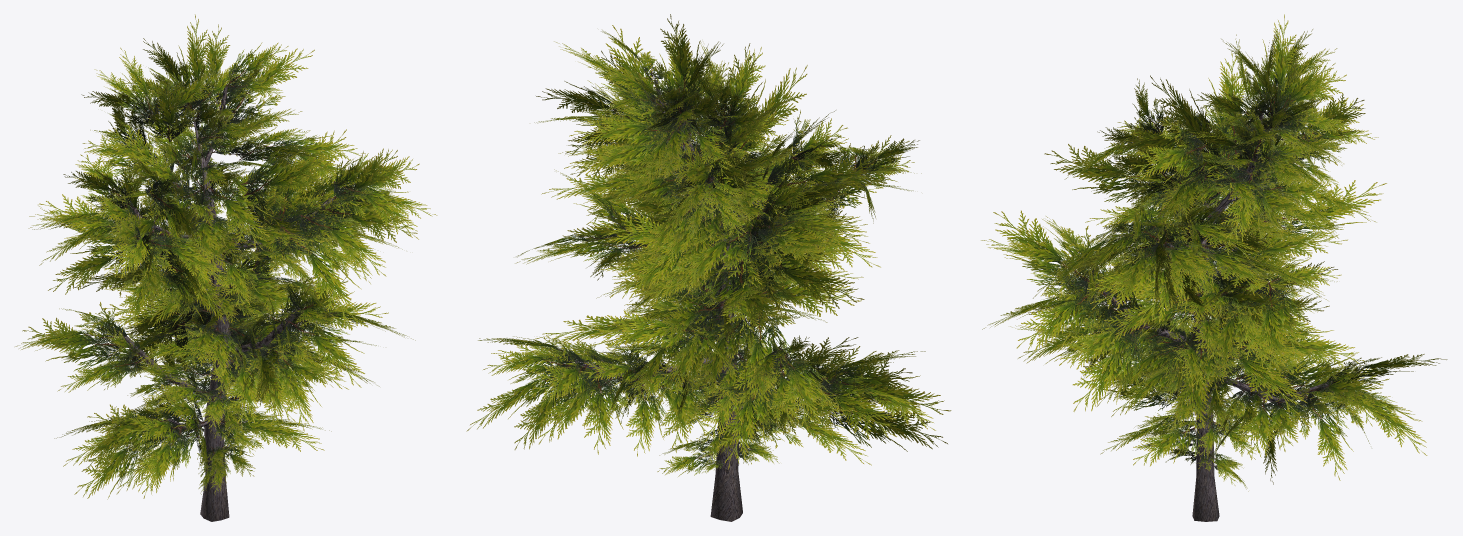
Rendered from m_tree_big_01.fbx.
3 views of the same model, side by side, from view 1: azimuth 30°, elevation 25°; view 2: azimuth 150°, elevation 25°; view 3: azimuth 270°, elevation 25° (orthographic). The views are drawn at different scales.
Parts seen in each view (by area): view 1: polySurface513; view 2: polySurface513; view 3: polySurface513.
Part boxes in pixels (box(x1,y1,x2,y2)): polySurface513: box(15, 14, 437, 521); polySurface513: box(466, 14, 951, 521); polySurface513: box(981, 14, 1447, 521).
Size of the model in its own units: 1053 by 1325 by 1129.
